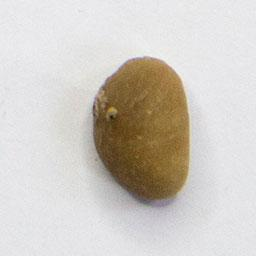defect: (89, 53, 194, 203)
